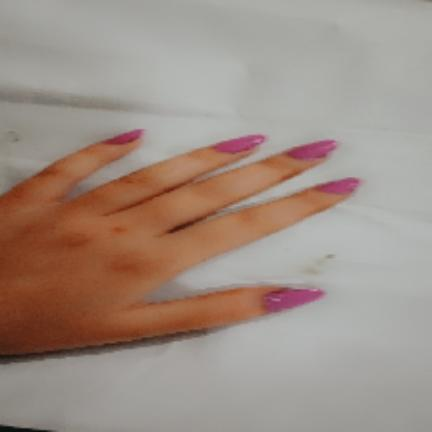Nail: (264, 289, 324, 313), (213, 135, 266, 154), (288, 140, 336, 159), (316, 178, 359, 194), (105, 129, 144, 144)
